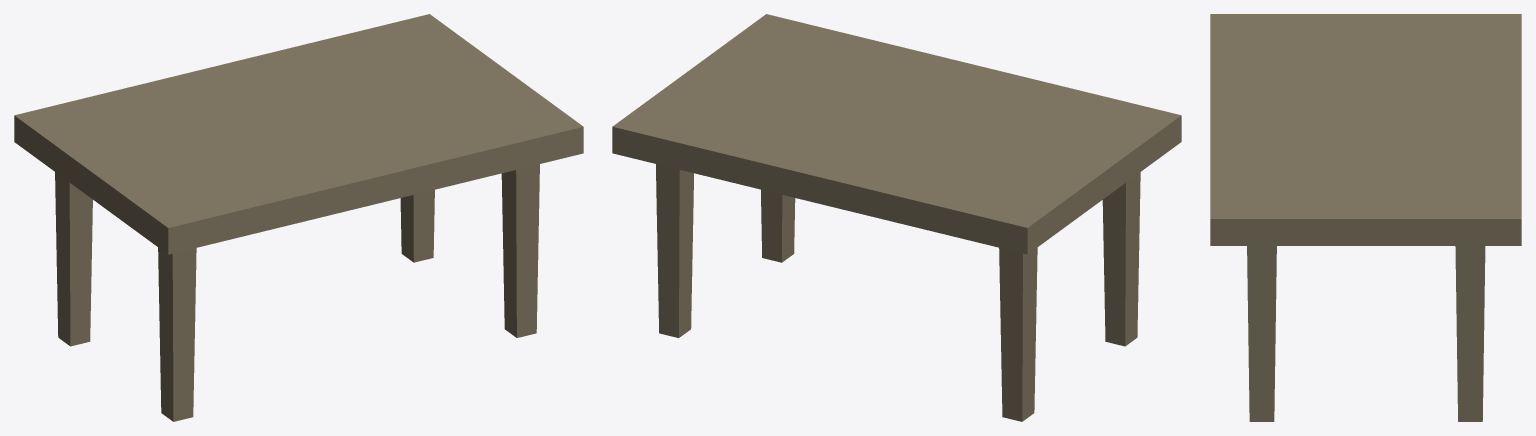
The model's file is table.fbx.
3 renders of one model, left to right at view 1: azimuth 30°, elevation 25°; view 2: azimuth 150°, elevation 25°; view 3: azimuth 270°, elevation 25°, orthographic.
Visible parts, largest first — view 1: Cube, Cube.003, Cube.002, Cube.004, Cube.001; view 2: Cube, Cube.004, Cube.001, Cube.003, Cube.002; view 3: Cube, Cube.002, Cube.001.
Boxes of the visible parts, <box> form: Cube: <box>14,14,583,254</box>; Cube.003: <box>158,247,196,421</box>; Cube.002: <box>501,164,539,337</box>; Cube.004: <box>55,172,92,346</box>; Cube.001: <box>400,189,434,262</box>; Cube: <box>612,14,1181,254</box>; Cube.004: <box>999,247,1037,421</box>; Cube.001: <box>656,164,693,337</box>; Cube.003: <box>1102,172,1140,346</box>; Cube.002: <box>761,189,795,262</box>; Cube: <box>1210,14,1521,245</box>; Cube.002: <box>1247,246,1276,421</box>; Cube.001: <box>1455,246,1485,421</box>.
Size of the model in its own units: 200 by 98.53 by 128.
